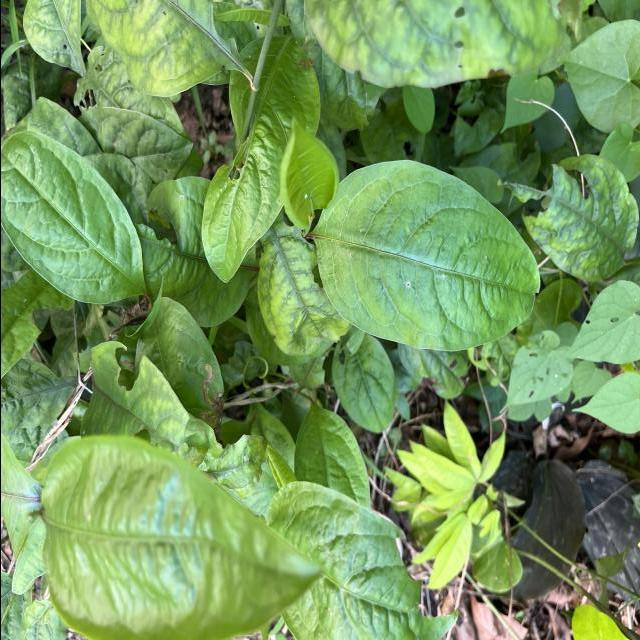Plumbago indica: (312, 150, 542, 360), (0, 130, 149, 304)
